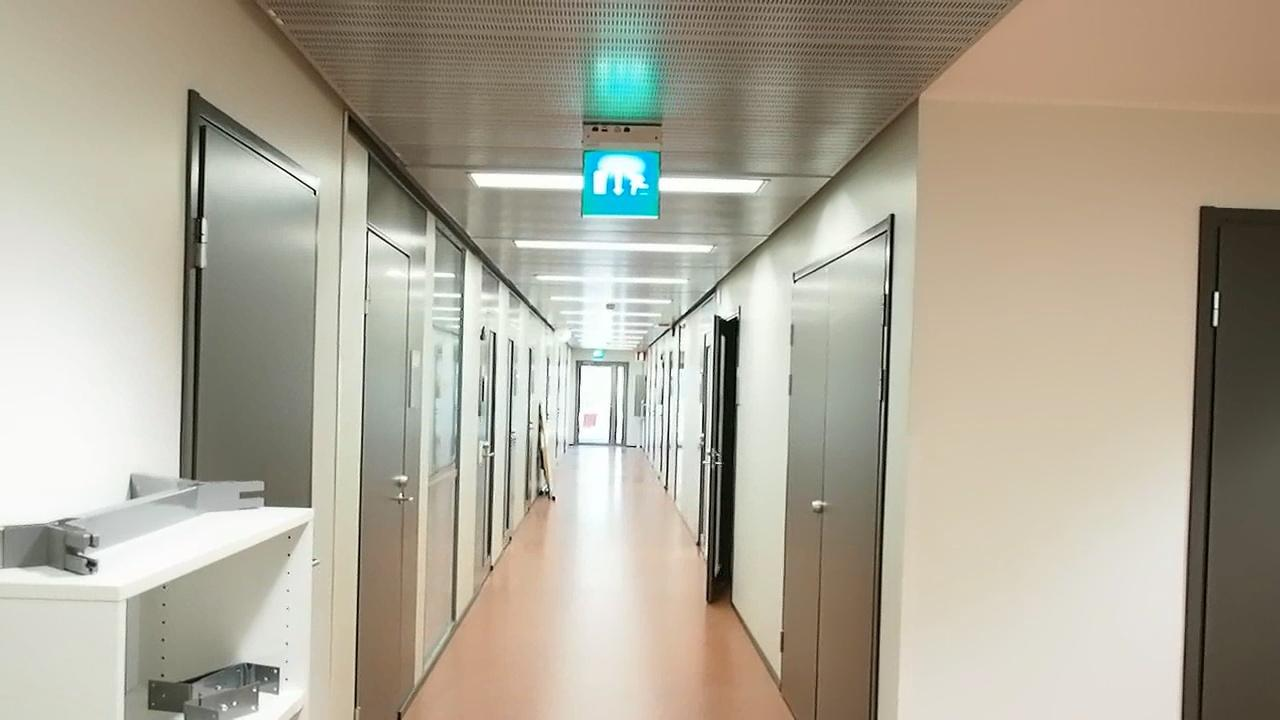exit: (578, 148, 662, 219)
